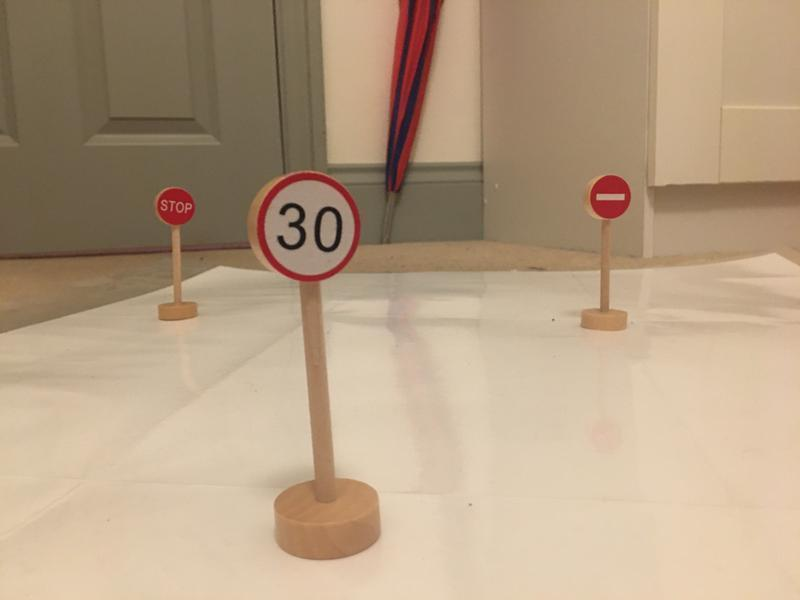Traffic_Sign_30: (256, 172, 358, 282)
Traffic_Sign_No_Entry: (589, 174, 632, 220)
Traffic_Sign_Stop: (156, 188, 196, 225)
